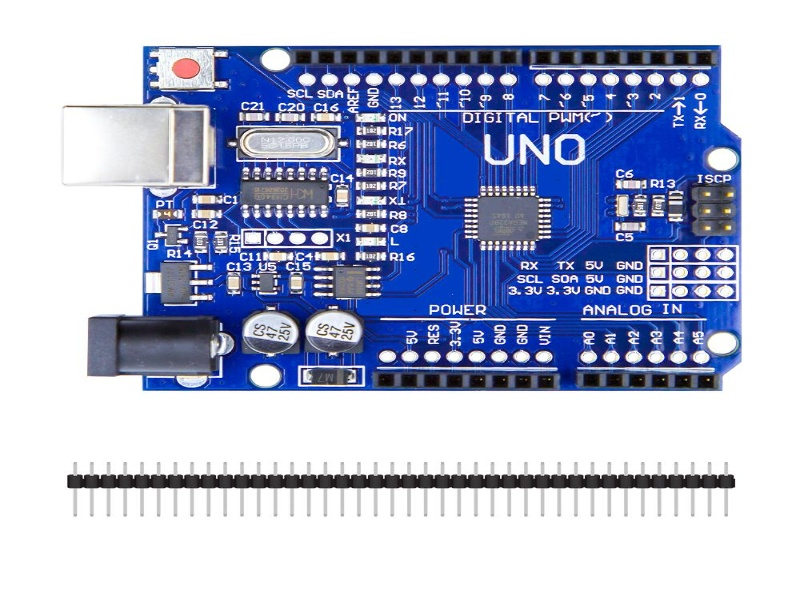uno: (54, 21, 778, 417)
